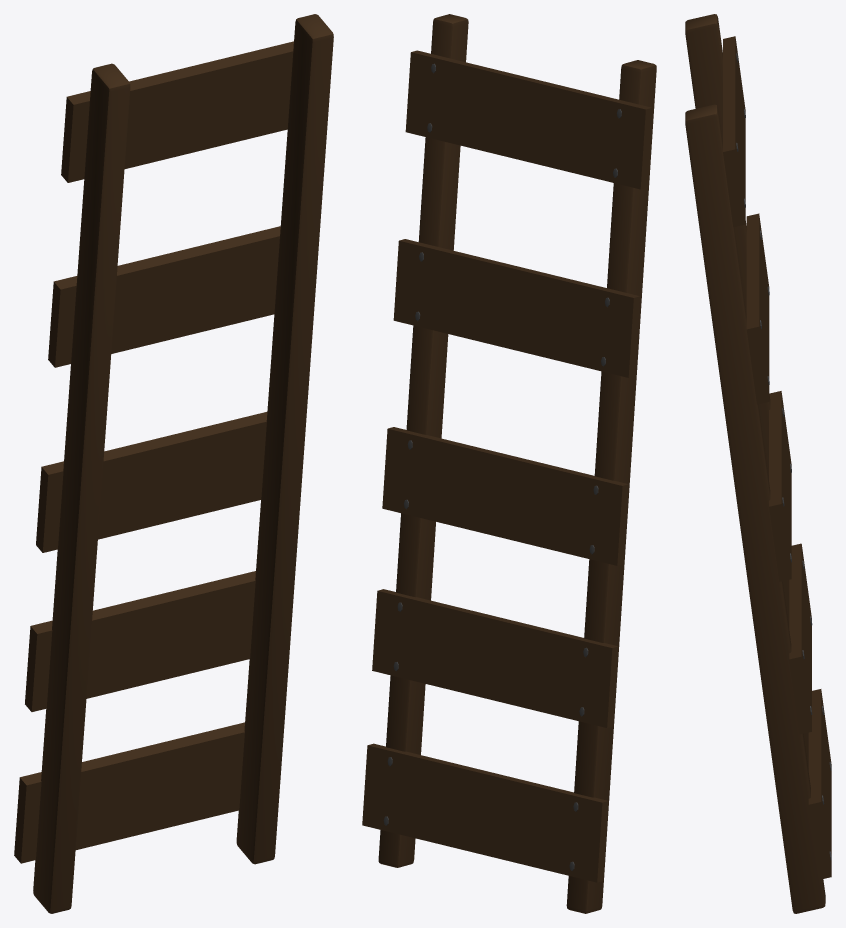
The model's file is Escalera.fbx.
3 renders of one model, left to right at view 1: azimuth 30°, elevation 25°; view 2: azimuth 150°, elevation 25°; view 3: azimuth 270°, elevation 25°, orthographic. The views are drawn at different scales.
Visible parts, largest first — view 1: Escalera; view 2: Escalera; view 3: Escalera.
Boxes of the visible parts, box(x1,y1,x2,y2) form: Escalera: box(14, 14, 333, 913); Escalera: box(362, 14, 656, 913); Escalera: box(685, 14, 831, 913).
Bounding box in the file's own units: 41.91 × 138 × 22.95.
